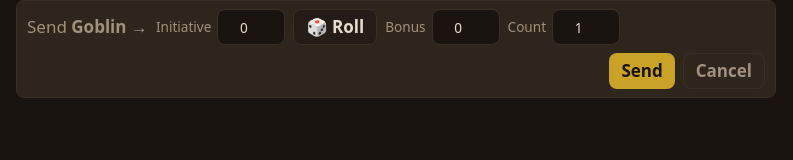
Scenario: SendToEncounterForm for an NPC › rolls the initiative from the die plus the bonus
The image size is (793, 160).
Replace the text in the number field labelled "Bonus" with "3": (466,27) top-left (432, 9), bottom-right (500, 45)
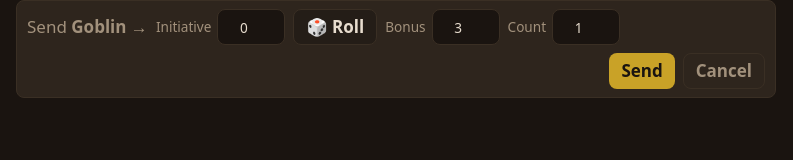
Click the button "🎲 Roll": (335,27) top-left (293, 9), bottom-right (377, 45)
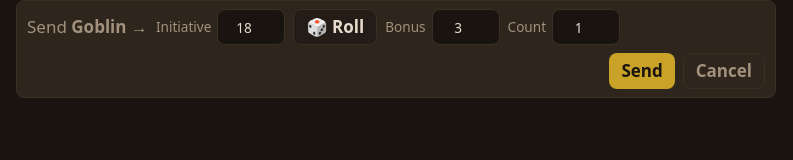
Expected: the number field labelled "Initiative" holds "18", top-left (217, 9), bottom-right (285, 45)
